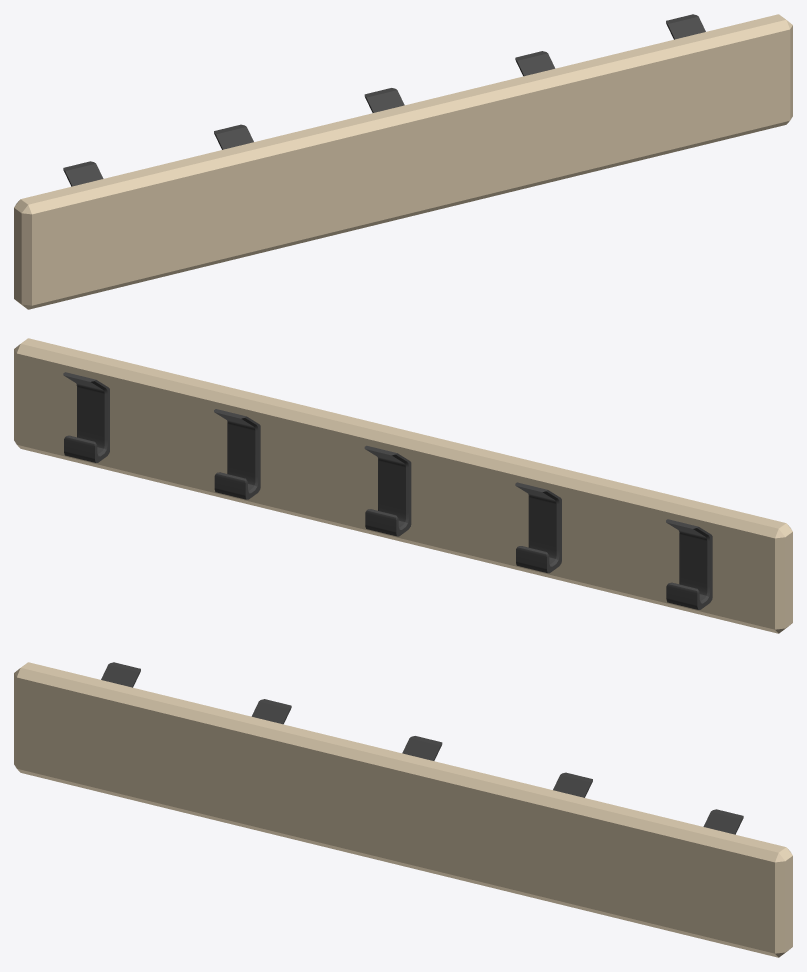
The model's file is coathanger_LP.fbx.
3 views of the same model, one above another, from view 1: azimuth 30°, elevation 25°; view 2: azimuth 150°, elevation 25°; view 3: azimuth 330°, elevation 25° (orthographic).
Visible parts, largest first — view 1: coat_hanger; view 2: coat_hanger; view 3: coat_hanger.
Boxes of the visible parts, <box> form: coat_hanger: <box>14,14,792,309</box>; coat_hanger: <box>14,338,792,633</box>; coat_hanger: <box>14,662,792,957</box>.
Size of the model in its own units: 73.46 by 5.44 by 9.56.
